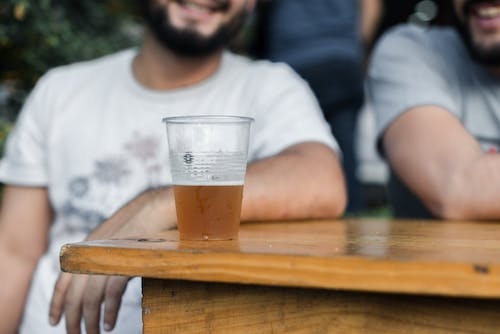alcohol: (161, 114, 255, 242)
